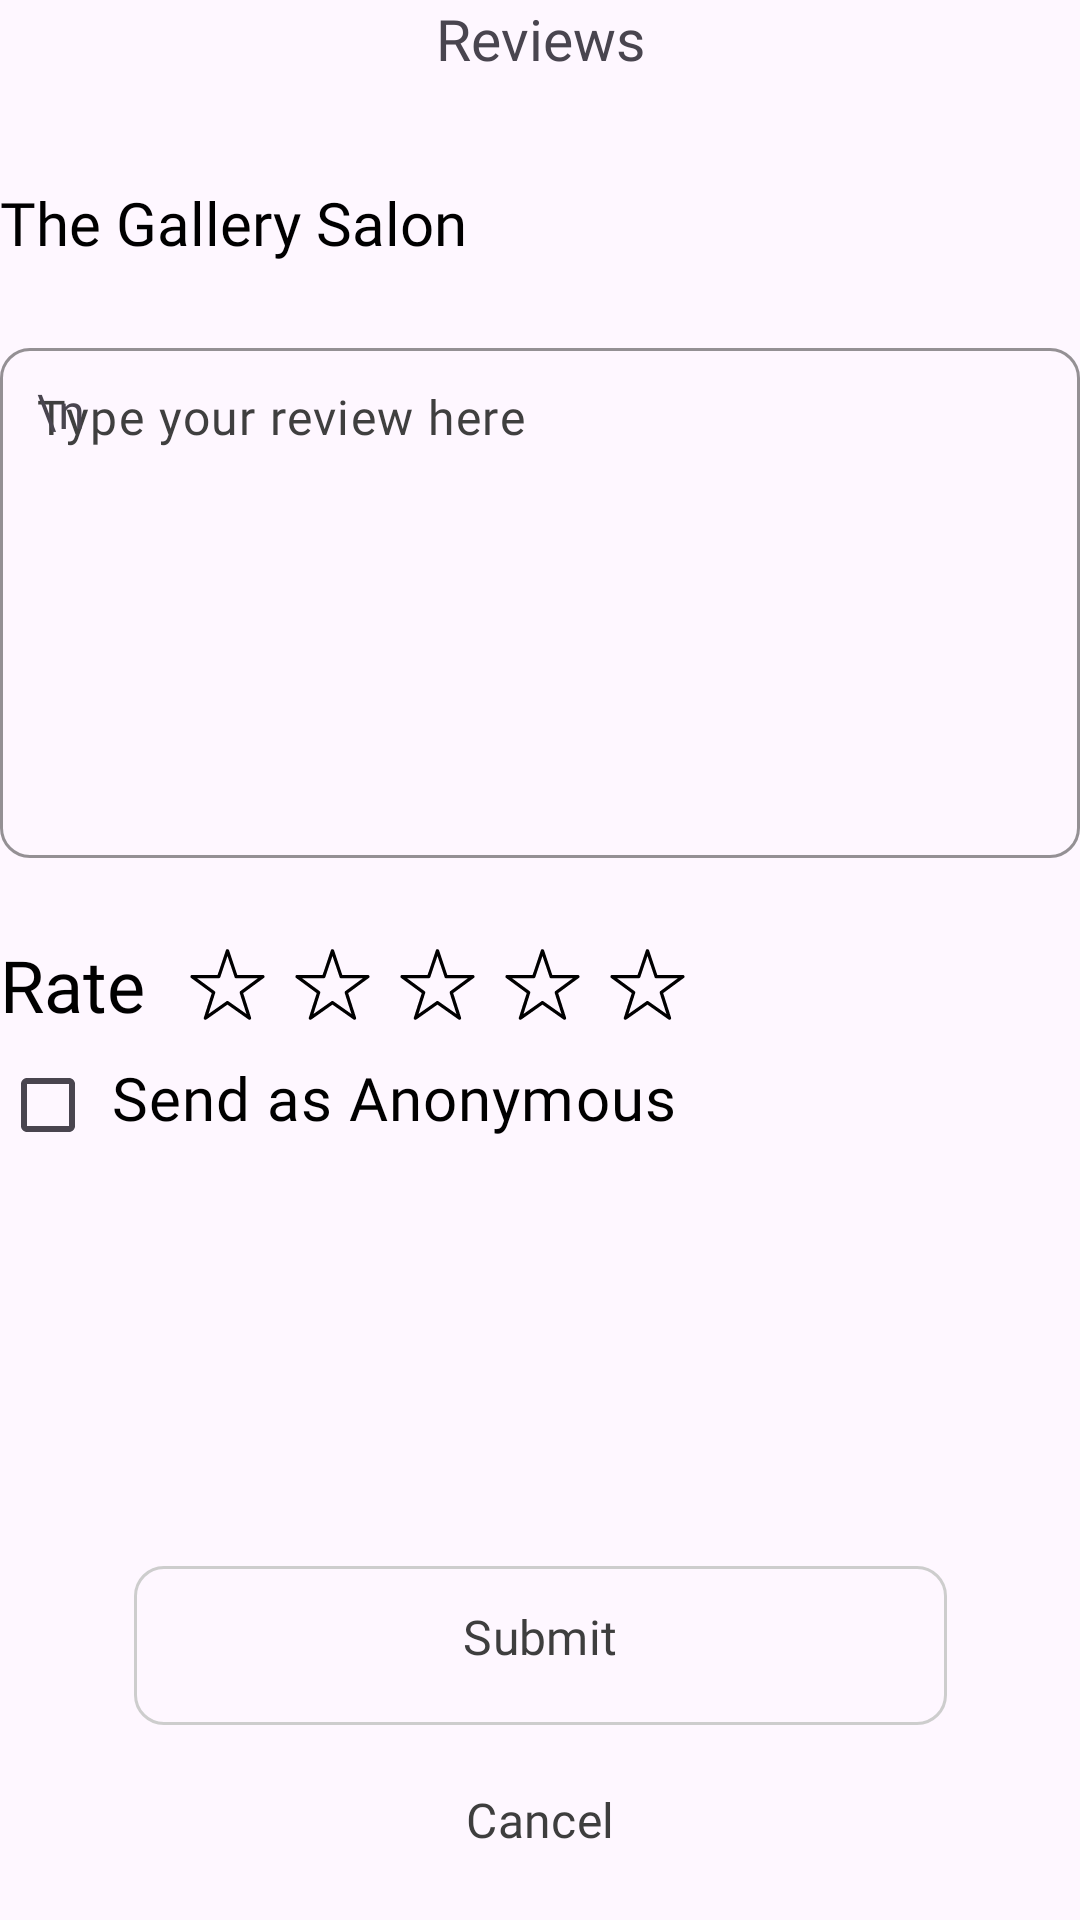

Point at icon controls on the screen. Image size 1080px×1920px, points as (x=x, y=y).
star: (x=227, y=984), (x=332, y=984), (x=437, y=984), (x=542, y=984), (x=647, y=984)
